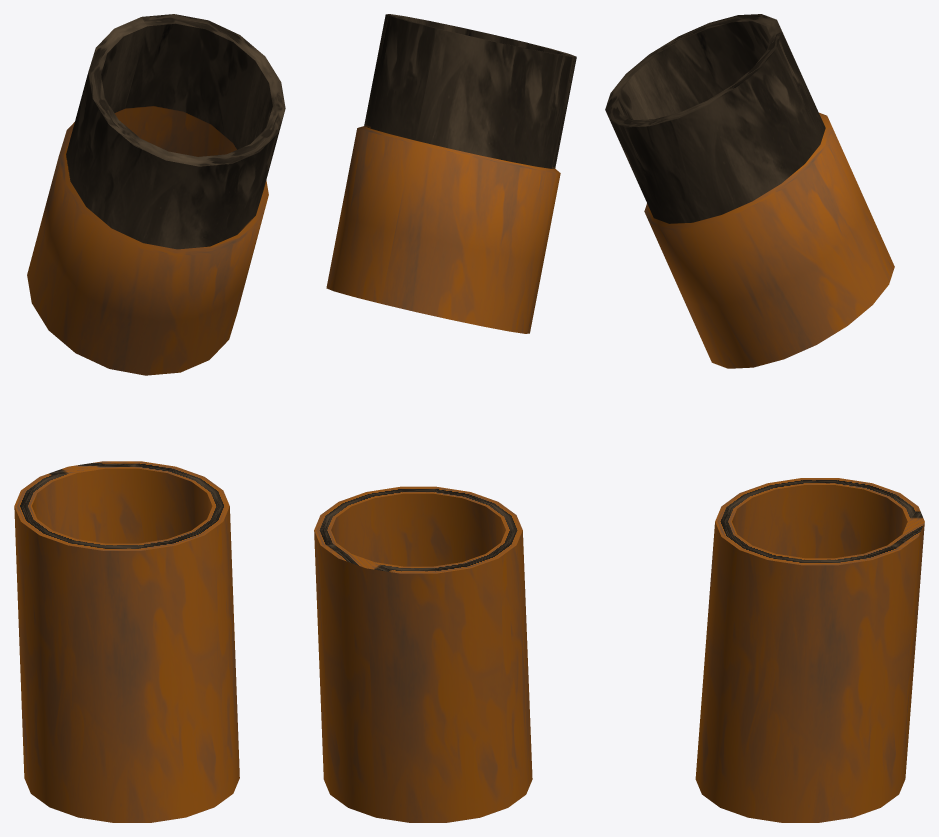
File: cheminee_02.FBX
3 views of the same model, side by side, from view 1: azimuth 30°, elevation 25°; view 2: azimuth 150°, elevation 25°; view 3: azimuth 270°, elevation 25° (orthographic). The views are drawn at different scales.
Parts seen in each view (by area): view 1: Cheminée_002; view 2: Cheminée_002; view 3: Cheminée_002.
Boxes of the visible parts, x1=… form: Cheminée_002: x1=14, y1=14, x2=285, y2=822; Cheminée_002: x1=314, y1=14, x2=576, y2=822; Cheminée_002: x1=605, y1=14, x2=924, y2=822.
Bounding box in the file's own units: 265 × 410 × 1058.
